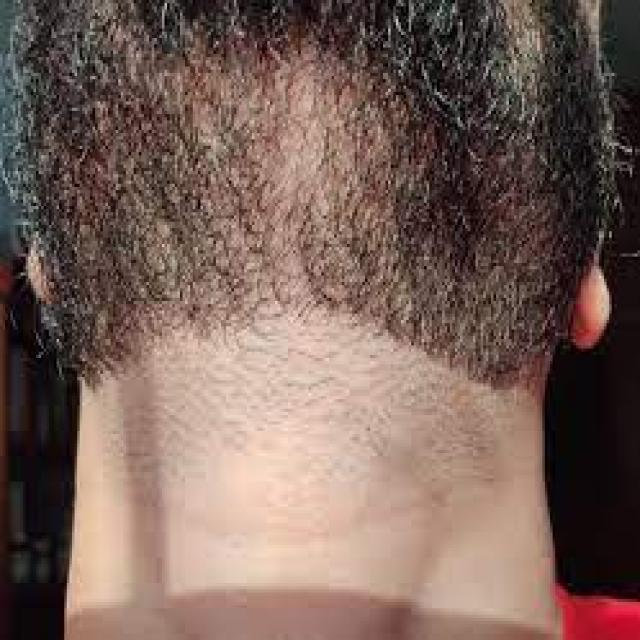Healthy: (67, 327, 552, 617)
